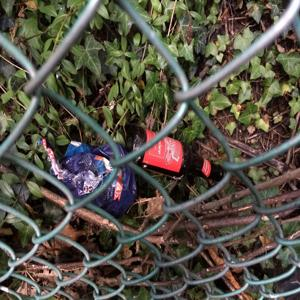glass: (123, 127, 233, 189)
plastic: (35, 129, 147, 218)
